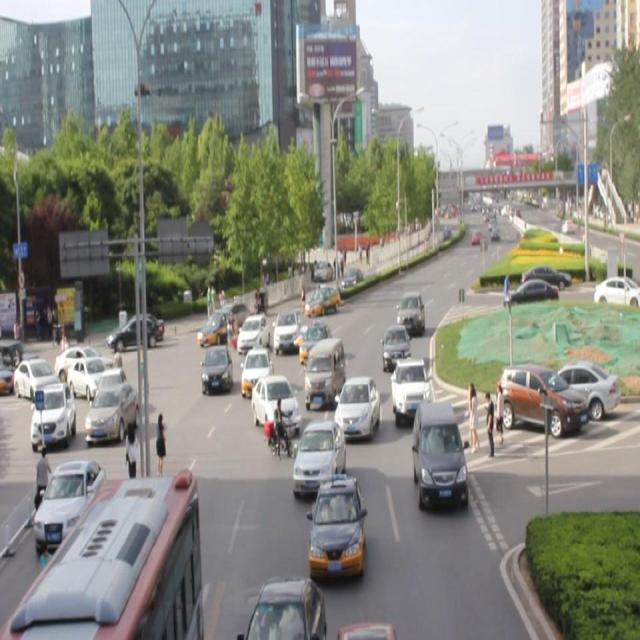car: (413, 399, 465, 505), (311, 482, 364, 578), (248, 577, 324, 640), (294, 421, 345, 494), (334, 378, 379, 440), (252, 375, 298, 432), (391, 356, 428, 419), (242, 349, 275, 398), (304, 316, 338, 362), (200, 345, 232, 392), (274, 307, 304, 357), (382, 324, 412, 372), (336, 618, 397, 640), (311, 279, 348, 315), (238, 313, 270, 354), (397, 290, 425, 336)
truck: (305, 340, 344, 398)
van: (14, 481, 198, 640)
